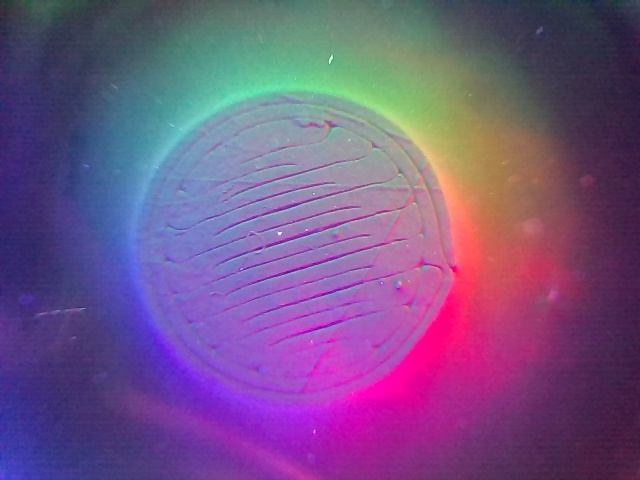contact: (140, 93, 455, 408)
